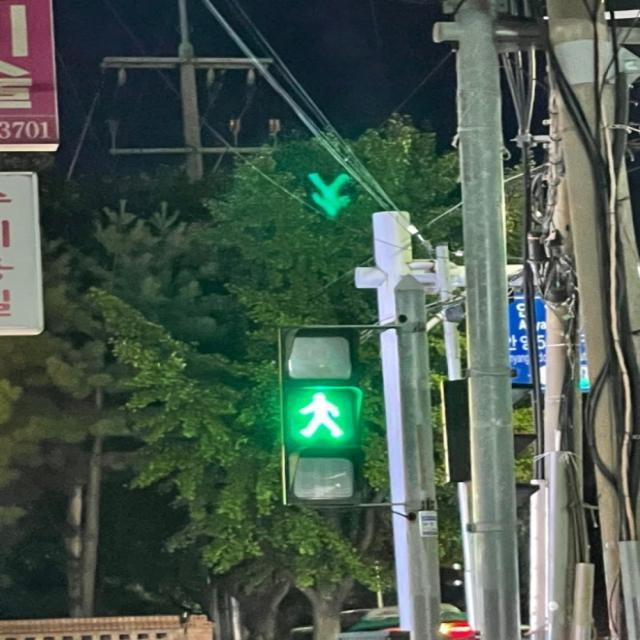green_light: (293, 389, 352, 446)
